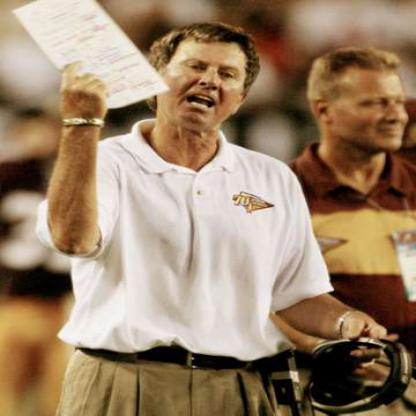face: (158, 24, 253, 130)
